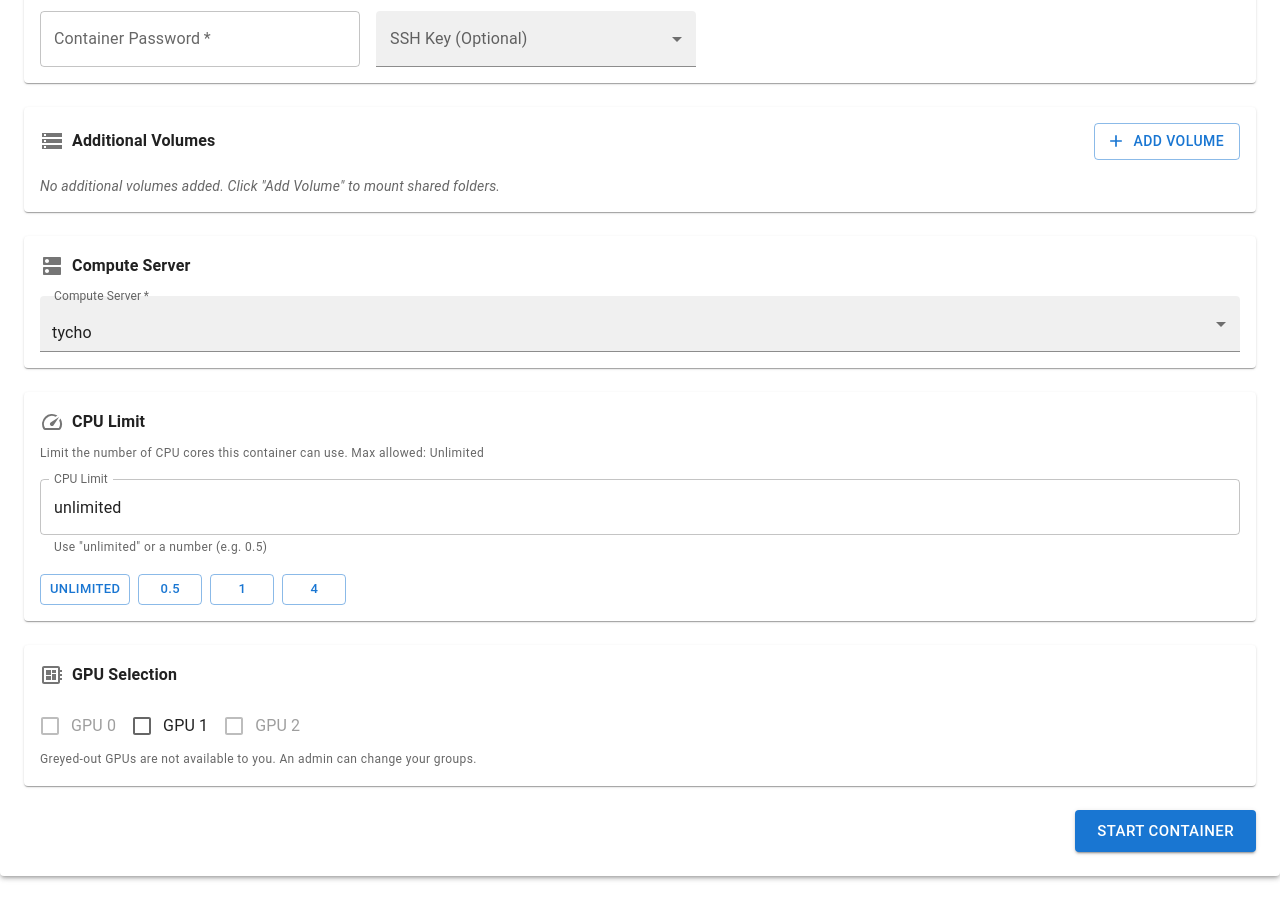
Scenario: GPUs the user may not use are shown but disabled
(page scrolled)
Expected: the checkbox with test id "container-gpu-0" is disabled, [38, 714, 116, 738]
Expected: the checkbox with test id "container-gpu-2" is disabled, [222, 714, 300, 738]
Click the checkbox with test id "container-gpu-1".
click(169, 726)  # box [130, 714, 208, 738]
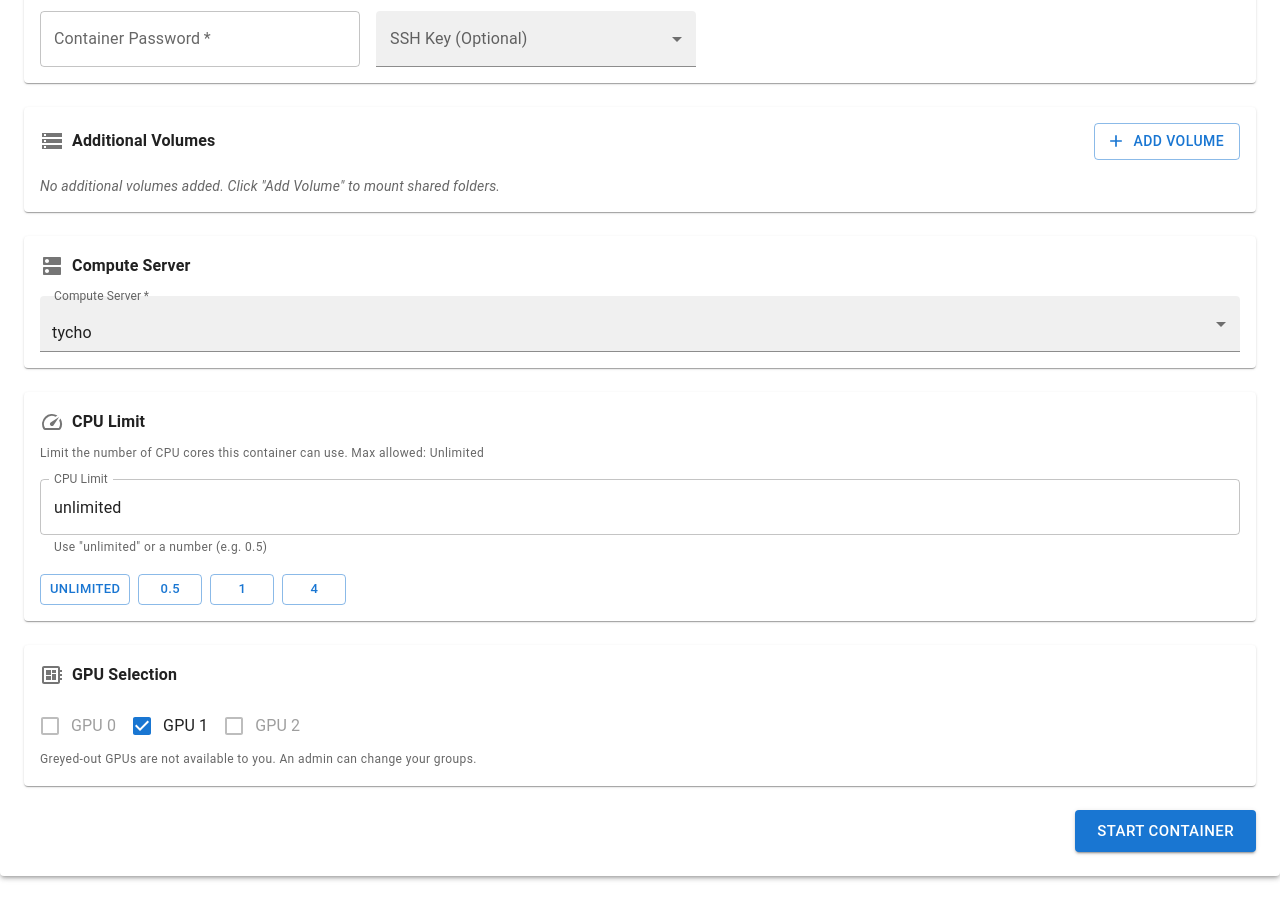
Expected: the checkbox with test id "container-gpu-1" is checked, [130, 714, 208, 738]
